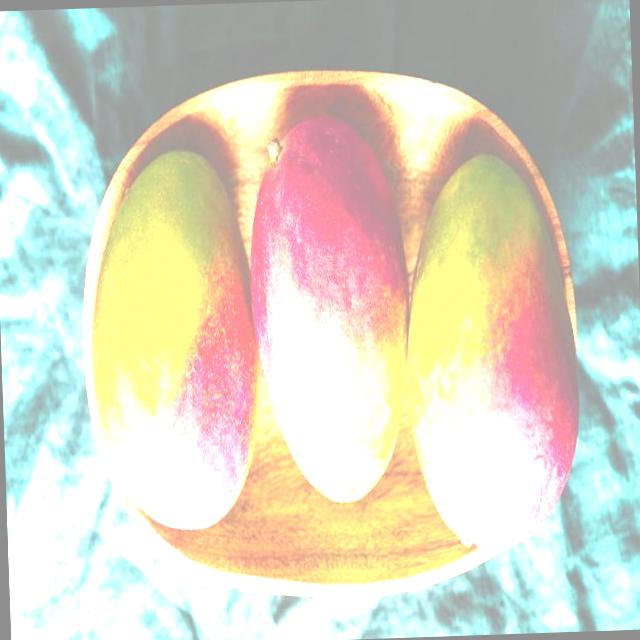Mango: (398, 154, 586, 550), (244, 114, 412, 503), (85, 150, 254, 534)
